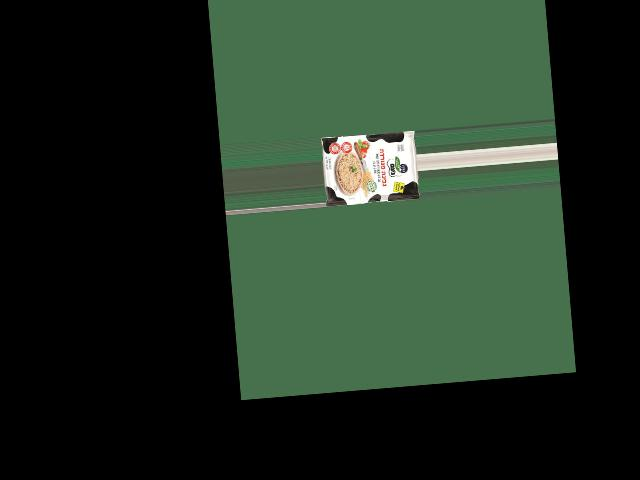cheese: (324, 119, 413, 208)
